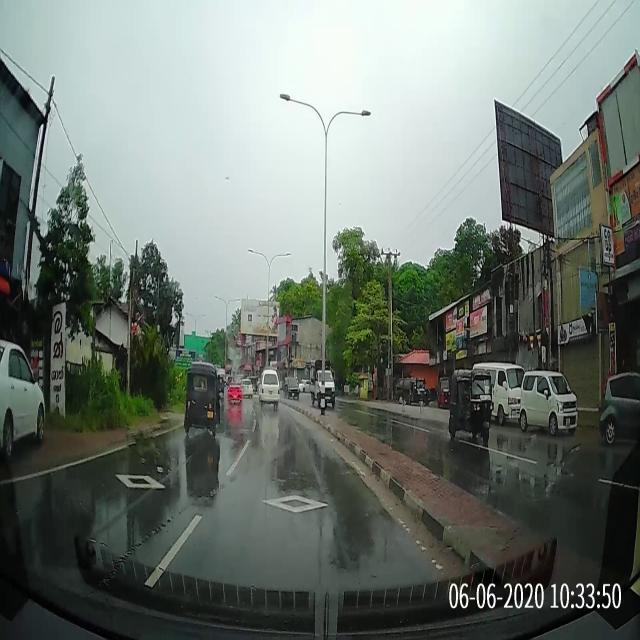diamond: (169, 477, 429, 550)
